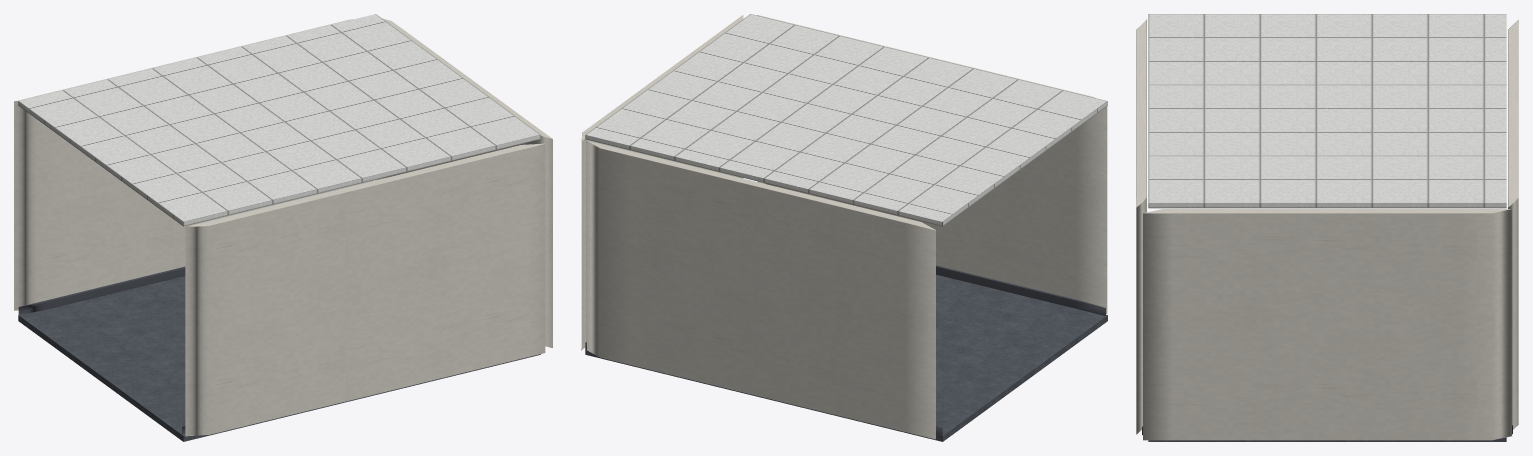
File: side_office.glb
3 renders of one model, left to right at view 1: azimuth 30°, elevation 25°; view 2: azimuth 150°, elevation 25°; view 3: azimuth 270°, elevation 25°, orthographic. The views are drawn at different scales.
Visible parts, largest first — view 1: Side_Office; view 2: Side_Office; view 3: Side_Office.
Part boxes in pixels (x1=…): Side_Office: x1=14, y1=14, x2=552, y2=441; Side_Office: x1=581, y1=14, x2=1107, y2=441; Side_Office: x1=1136, y1=14, x2=1518, y2=441.
Bounding box in the file's own units: 5.13 × 2.94 × 4.27.
Materials: 7 (5 with a texture image).
